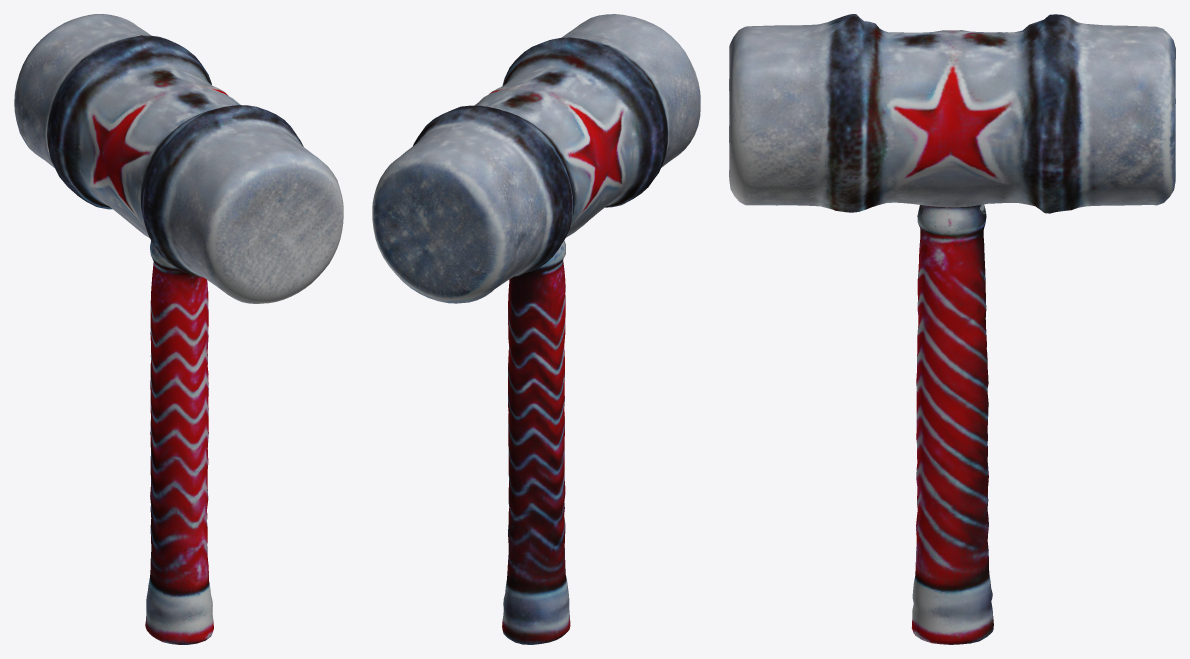
The model's file is 9ac8077588b1_colorful_rubber_ham.fbx.
3 renders of one model, left to right at view 1: azimuth 30°, elevation 25°; view 2: azimuth 150°, elevation 25°; view 3: azimuth 270°, elevation 25°, orthographic. The views are drawn at different scales.
Parts seen in each view (by area): view 1: mesh; view 2: mesh; view 3: mesh.
Boxes of the visible parts, <box> form: mesh: <box>14,14,343,644</box>; mesh: <box>372,14,700,644</box>; mesh: <box>729,14,1175,644</box>.
Bounding box in the file's own units: 29.67 × 99.95 × 66.49.
